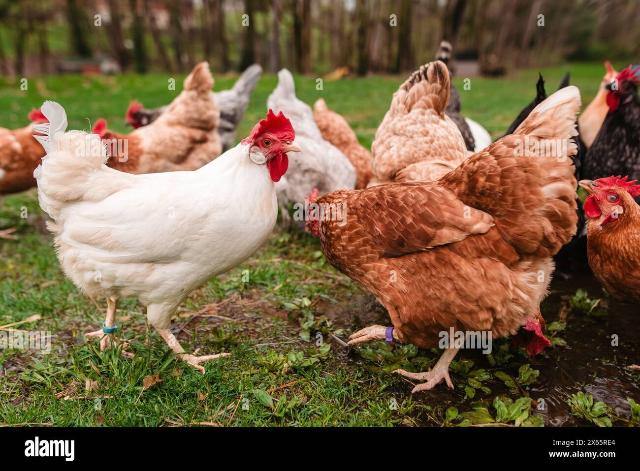Chicken: (299, 85, 582, 395), (34, 102, 303, 371), (579, 163, 640, 300), (586, 60, 640, 190)
